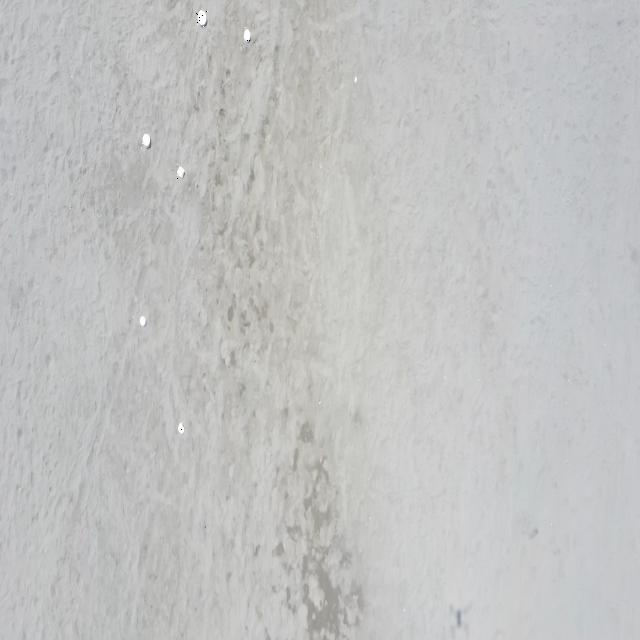take-away-containers: (196, 8, 208, 29), (140, 132, 150, 148), (243, 27, 251, 43), (177, 164, 185, 179), (139, 316, 147, 330), (178, 422, 184, 434)
